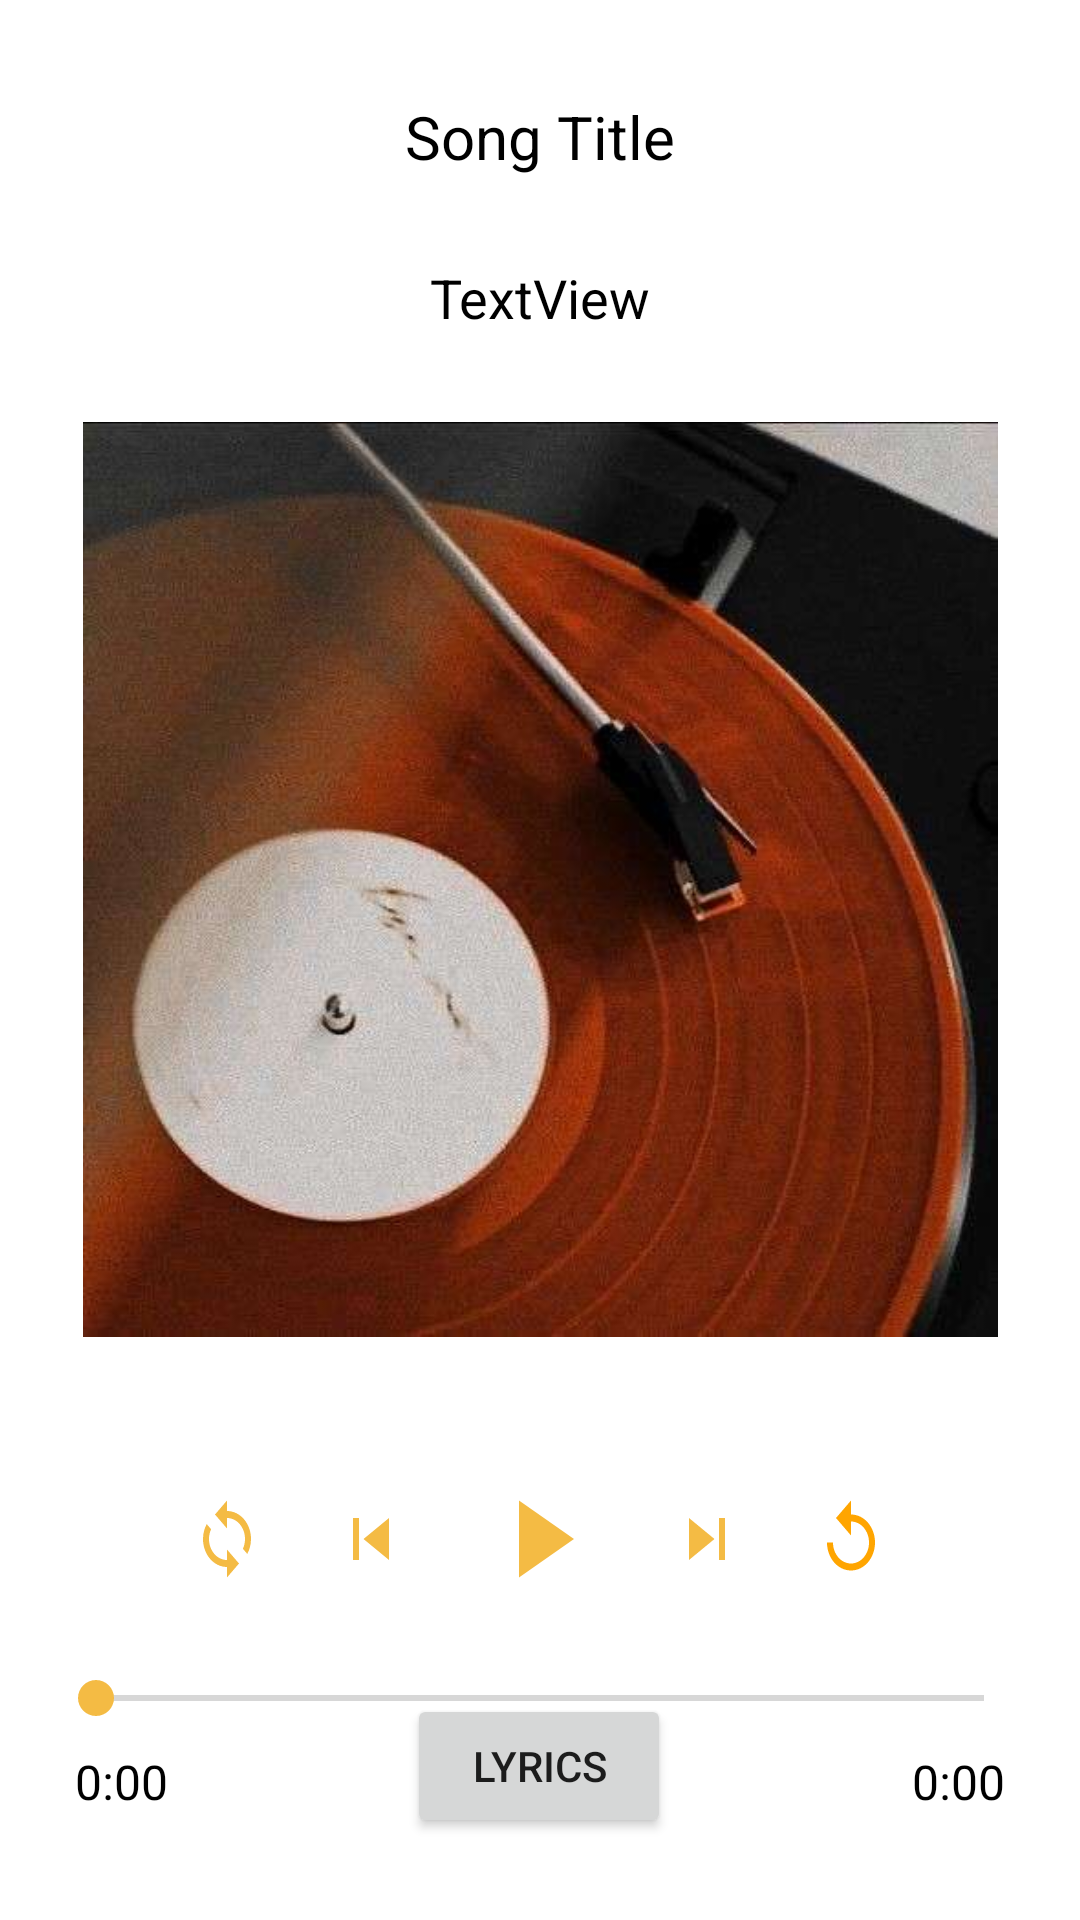

Locate icon controls on the screen. Image size 1080 × 1920, boxes as (x1, y1, x2, y2).
Next: (689, 1518, 725, 1560)
Play/Pause: (519, 1500, 574, 1578)
Previous: (353, 1518, 389, 1560)
Replay: (827, 1501, 875, 1571)
Toggle Loop/Shuffle: (203, 1501, 251, 1577)
